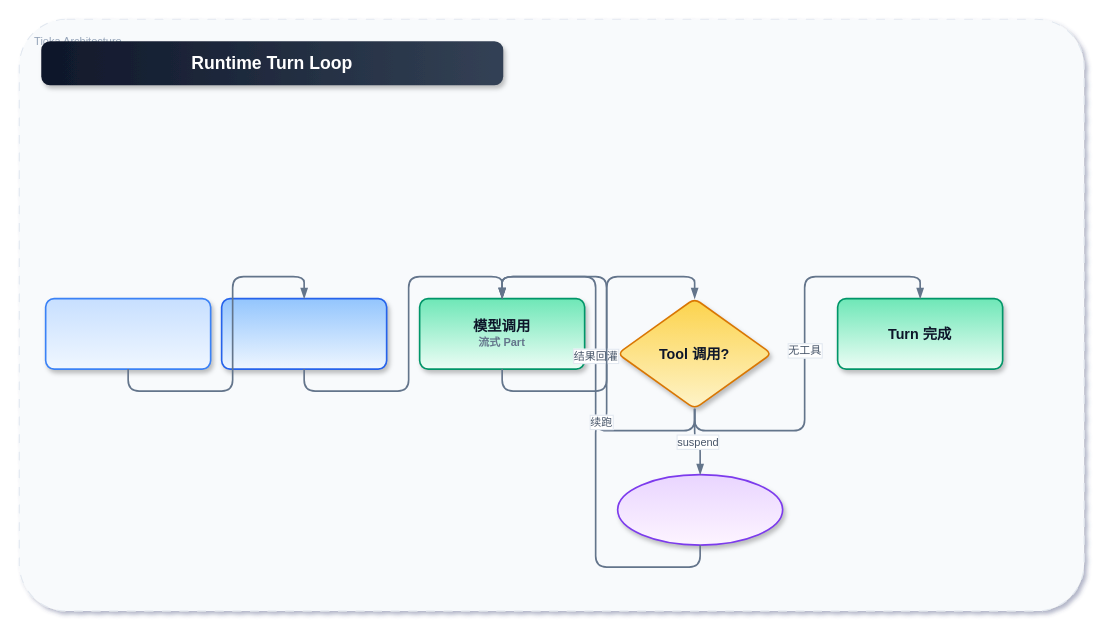
Image size: 1110x637. Some labels were removed from this diagram. Here are the shapes that lost their labels. From the top down, the centre of each, then its label:
At (x=129, y=335): "append/steer".
At (x=305, y=335): "选模 ModelRouter".
At (x=701, y=511): "Attention 挂起?".
